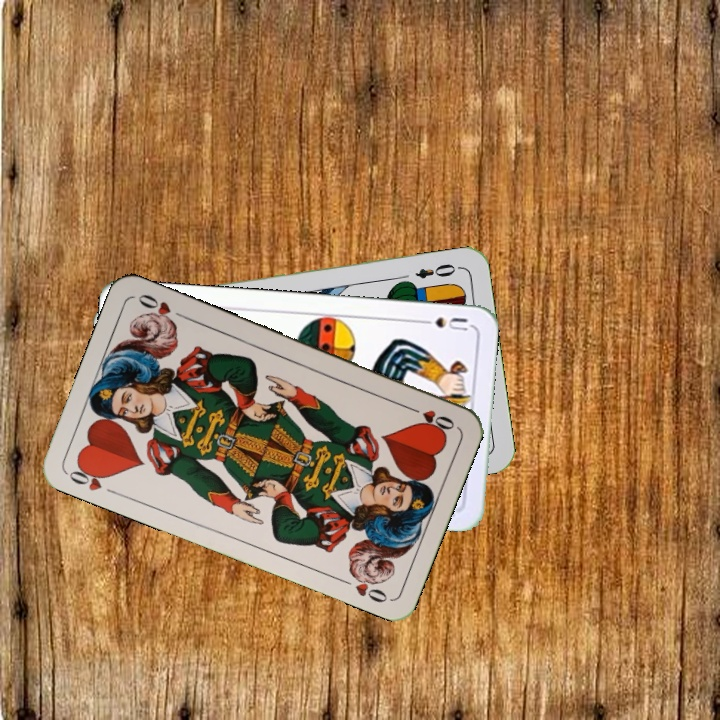EO: (411, 259, 458, 281)
HO: (402, 401, 458, 433), (63, 459, 112, 494)
SU: (413, 313, 470, 333)
